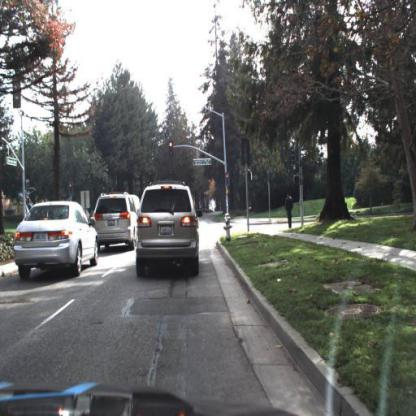car: (13, 201, 100, 282), (134, 180, 203, 282), (92, 193, 141, 251)
pedestrian: (284, 192, 295, 231)
trafficLight-Red: (68, 180, 76, 198), (168, 141, 174, 160), (225, 172, 231, 188), (68, 181, 75, 194)
